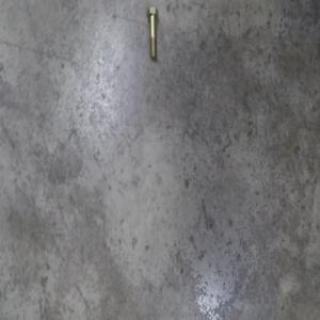Bolttrack_idkeyframe: (147, 13, 161, 64)
